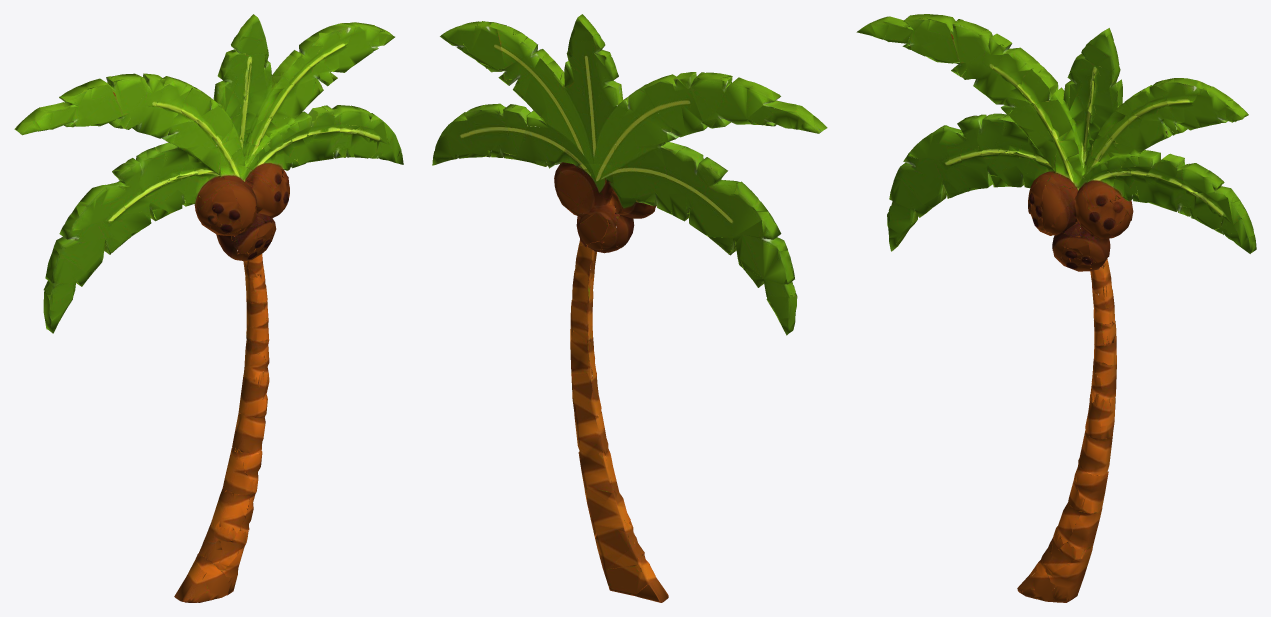
File: palmera.glb
The picture shows the model from 3 angles, left to right: view 1: azimuth 30°, elevation 25°; view 2: azimuth 150°, elevation 25°; view 3: azimuth 330°, elevation 25°; orthographic projection. The views are drawn at different scales.
Visible parts, largest first — view 1: Mesh_0; view 2: Mesh_0; view 3: Mesh_0.
Boxes of the visible parts, bbox=[...] form: Mesh_0: bbox=[14, 14, 403, 602]; Mesh_0: bbox=[432, 14, 827, 602]; Mesh_0: bbox=[856, 14, 1256, 602].
Bounding box in the file's own units: 1.36 × 1.9 × 0.1716.
1 material, 1 textured.
